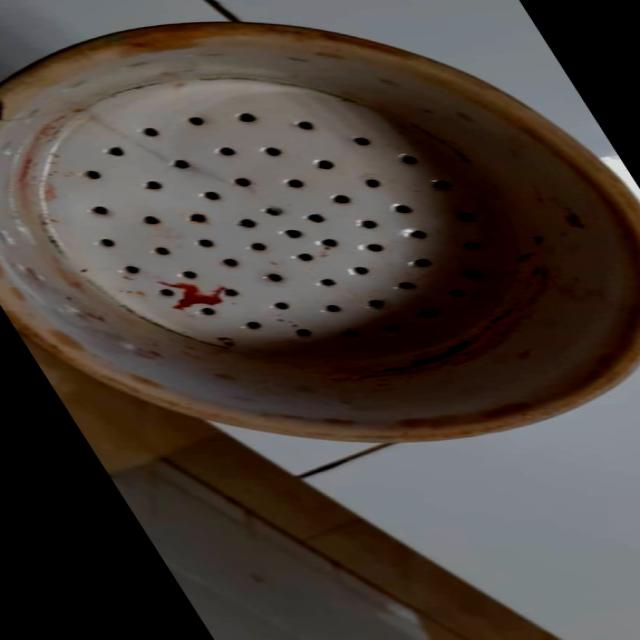Bunchen funnel: (0, 0, 640, 473)
